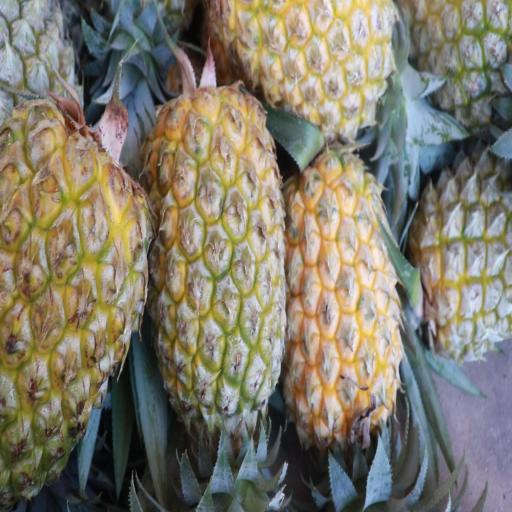------------------------------: (414, 146, 512, 357)
Pineapple - v8 v1: (0, 102, 148, 501), (151, 93, 284, 429), (284, 156, 402, 448), (220, 0, 392, 132)
